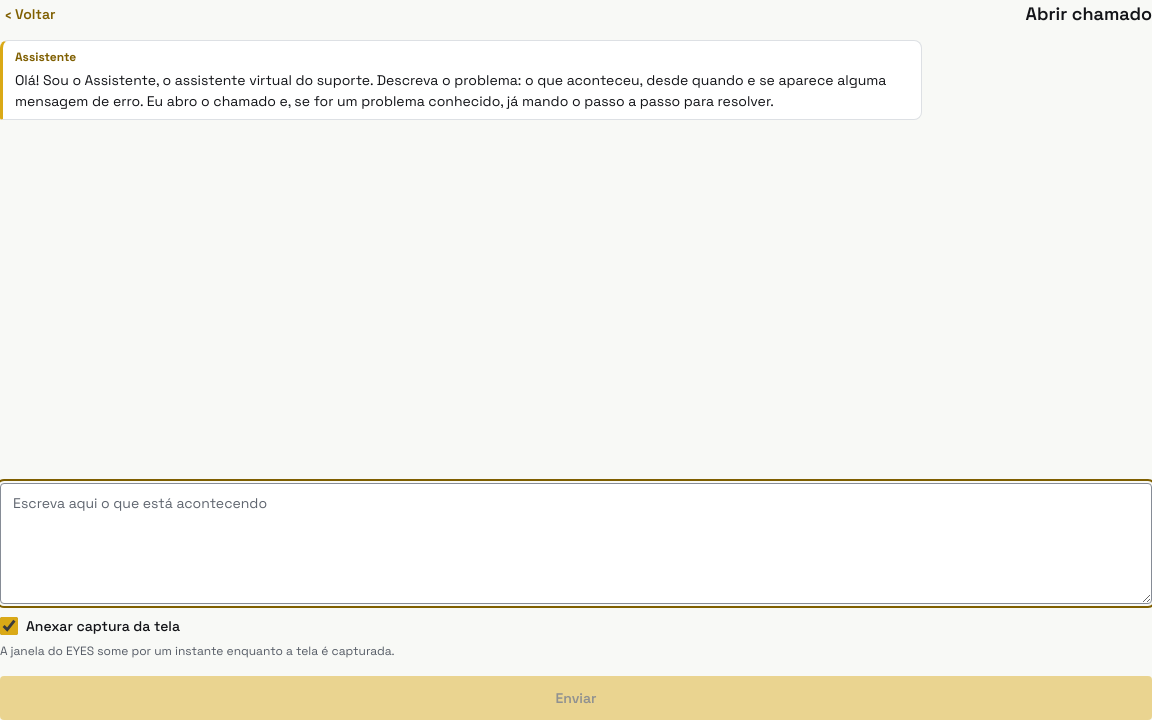
Test: AssistantStart › mostra o erro e deixa tentar de novo
The image size is (1152, 720).
Type "Sem internet" into the text box named "Descreva o problema" at (576, 544), box [0,483,1151,604]
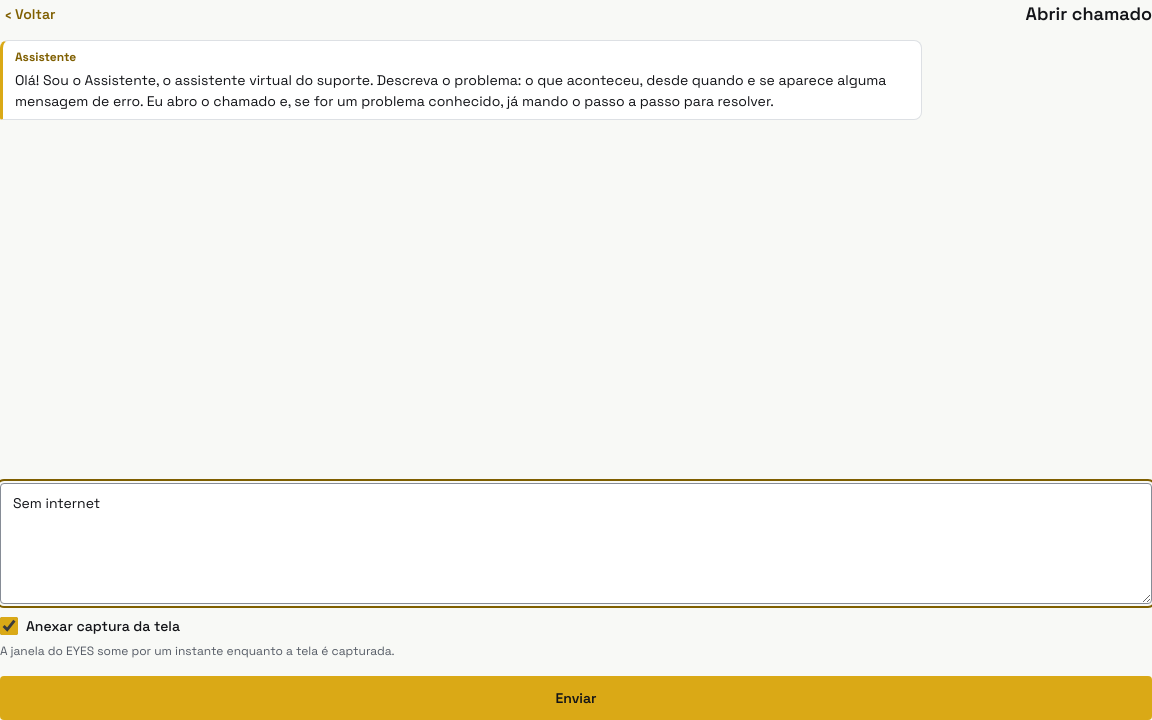
Click the button "Enviar" at (576, 698), box [0,676,1151,719]
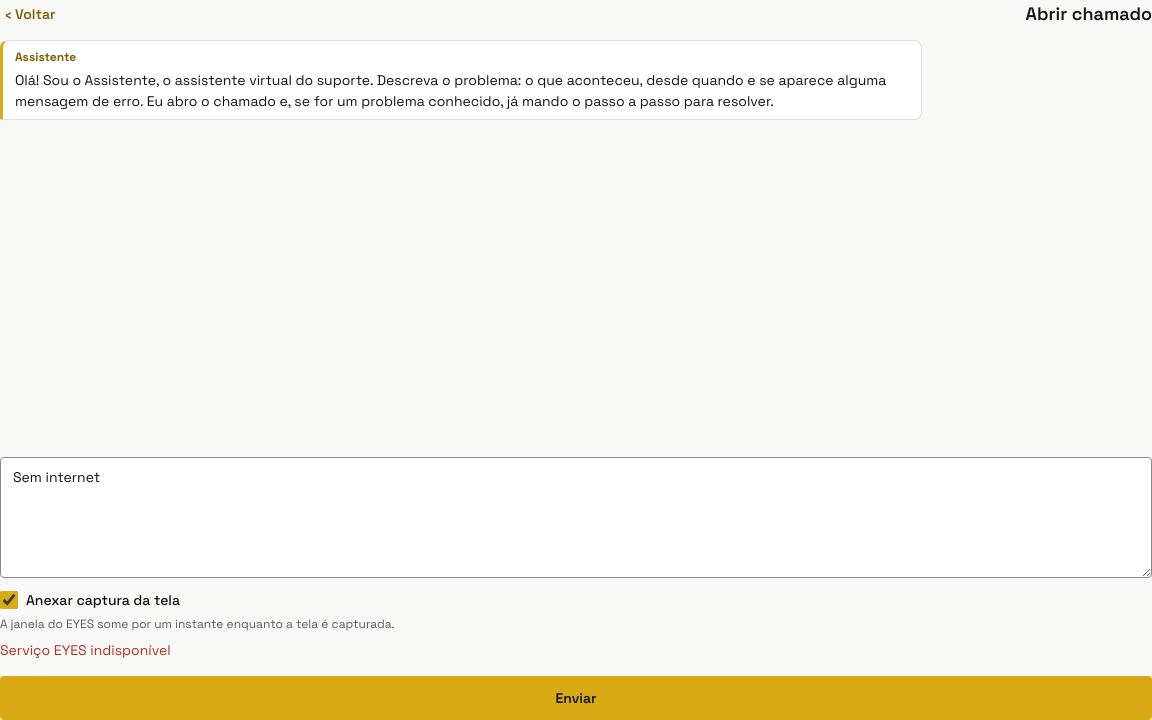
Check: the button "Enviar" is enabled, box [0,676,1151,719]
Check: the message reads "Serviço EYES indisponível", box [0,641,171,659]
